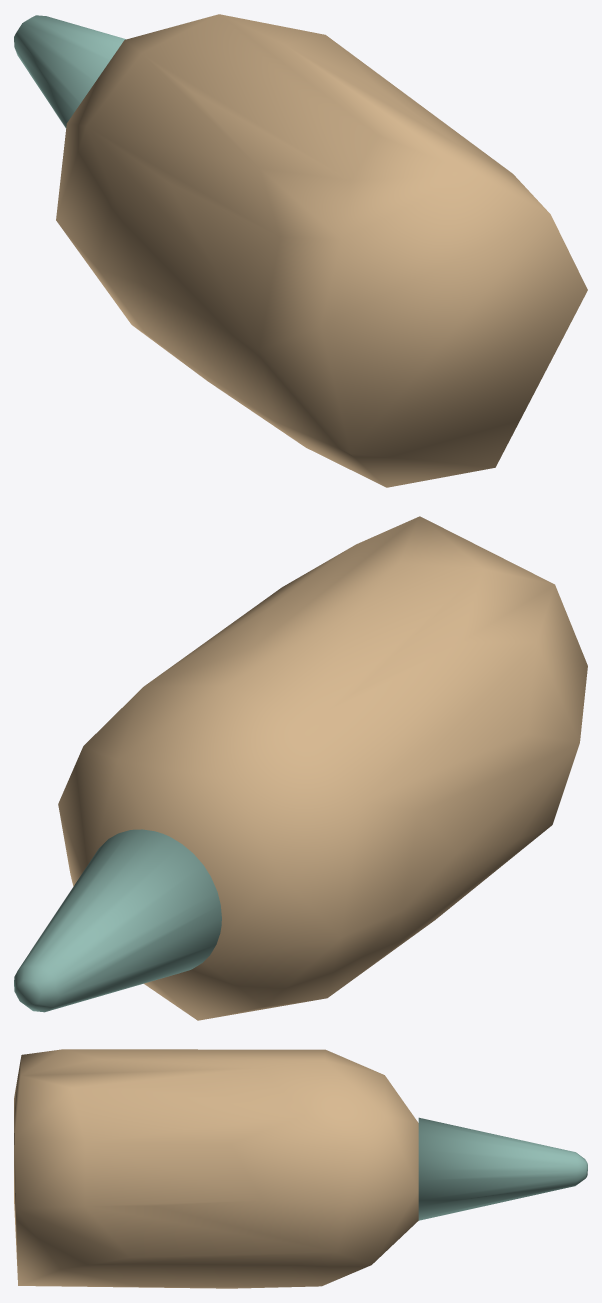
3 views of the same model, one above another, from view 1: azimuth 30°, elevation 25°; view 2: azimuth 150°, elevation 25°; view 3: azimuth 270°, elevation 25° (orthographic). The views are drawn at different scales.
Size of the model in its own units: 0.777 by 0.7792 by 1.87.
